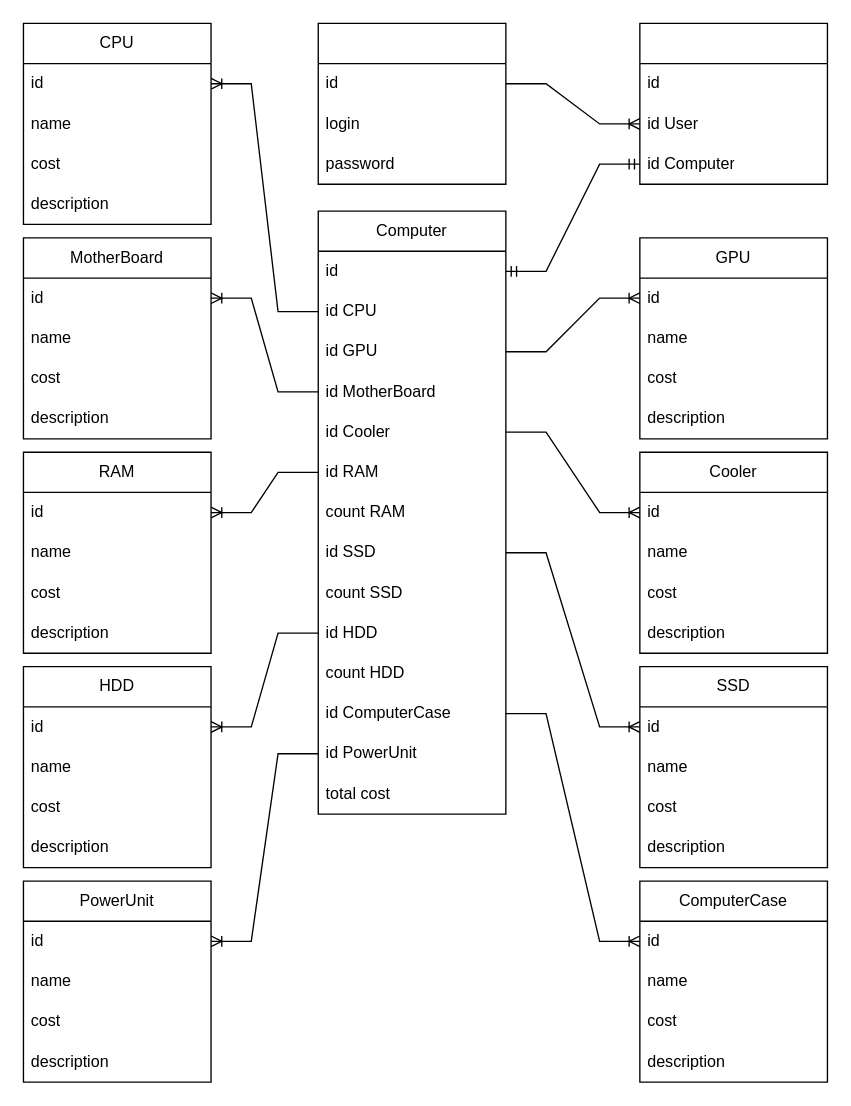
Image size: 851x1106. Some labels were removed from this diagram. Here are the shapes that lost their labels. From the top down, the box of each, then its label:
(317, 22, 506, 184): User
(639, 22, 827, 184): WishList
